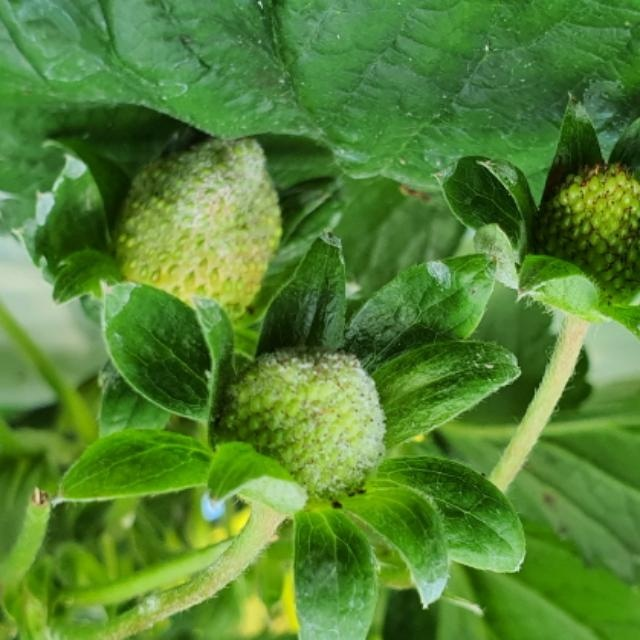Powdery Mildew Fruit: (213, 349, 389, 510), (134, 136, 286, 247)
